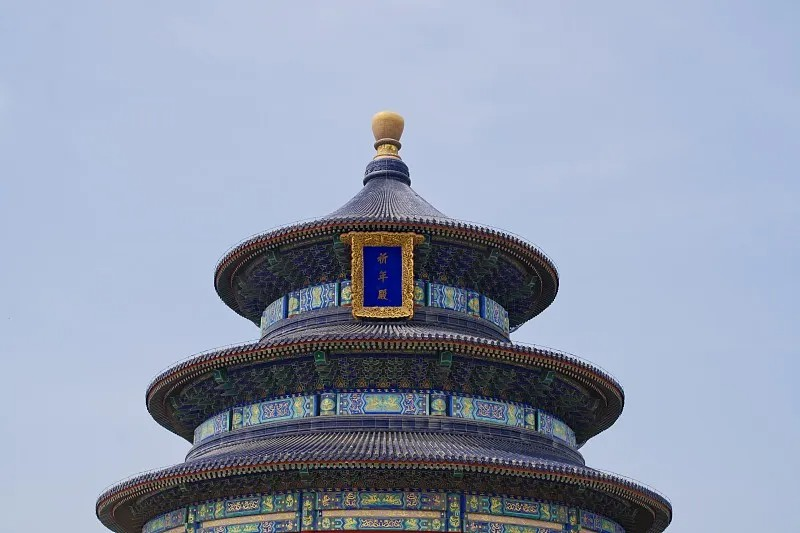Heaven: (92, 108, 673, 533)
